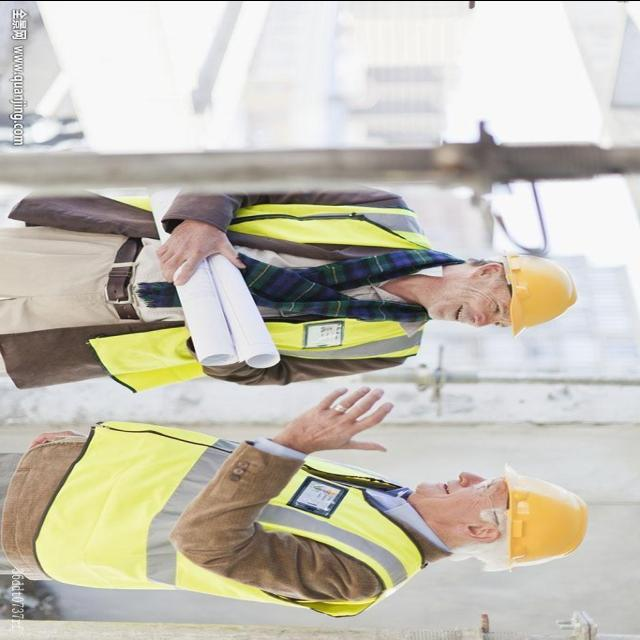helmet: (497, 460, 595, 576), (498, 240, 580, 342)
jacket: (45, 418, 432, 622), (106, 188, 434, 398)
